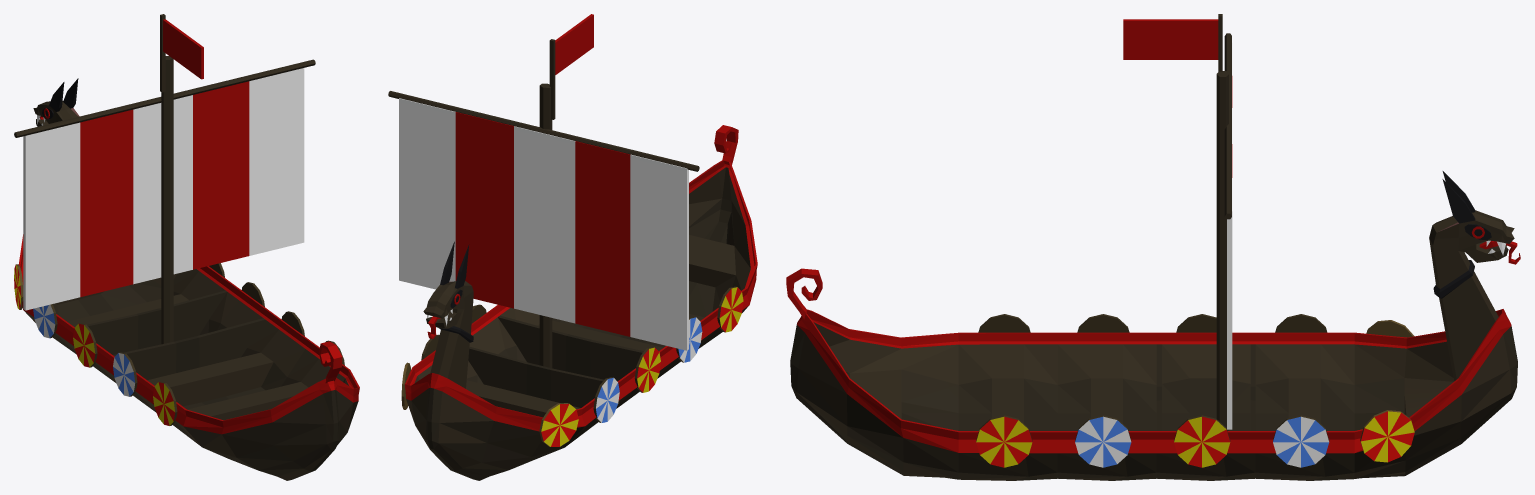
The model's file is Ship_04.fbx.
3 views of the same model, side by side, from view 1: azimuth 30°, elevation 25°; view 2: azimuth 150°, elevation 25°; view 3: azimuth 270°, elevation 25° (orthographic). The views are drawn at different scales.
Visible parts, largest first — view 1: Sail, Boat_Outer_04, Boat_Inner_04, Flag; view 2: Sail, Boat_Outer_04, Boat_Inner_04, Flag; view 3: Boat_Outer_04, Boat_Inner_04, Flag, Sail.
Part boxes in pixels (bbox=[...]): Sail: bbox=[23, 68, 304, 310]; Boat_Outer_04: bbox=[14, 14, 359, 480]; Boat_Inner_04: bbox=[21, 257, 354, 420]; Flag: bbox=[163, 19, 203, 79]; Sail: bbox=[399, 98, 688, 350]; Boat_Outer_04: bbox=[388, 39, 757, 480]; Boat_Inner_04: bbox=[410, 166, 754, 417]; Flag: bbox=[555, 14, 593, 74]; Boat_Outer_04: bbox=[786, 14, 1520, 480]; Boat_Inner_04: bbox=[812, 320, 1454, 430]; Flag: bbox=[1123, 19, 1218, 59]; Sail: bbox=[1227, 43, 1232, 429].
Size of the model in its own units: 1640 by 1961 by 2822.
